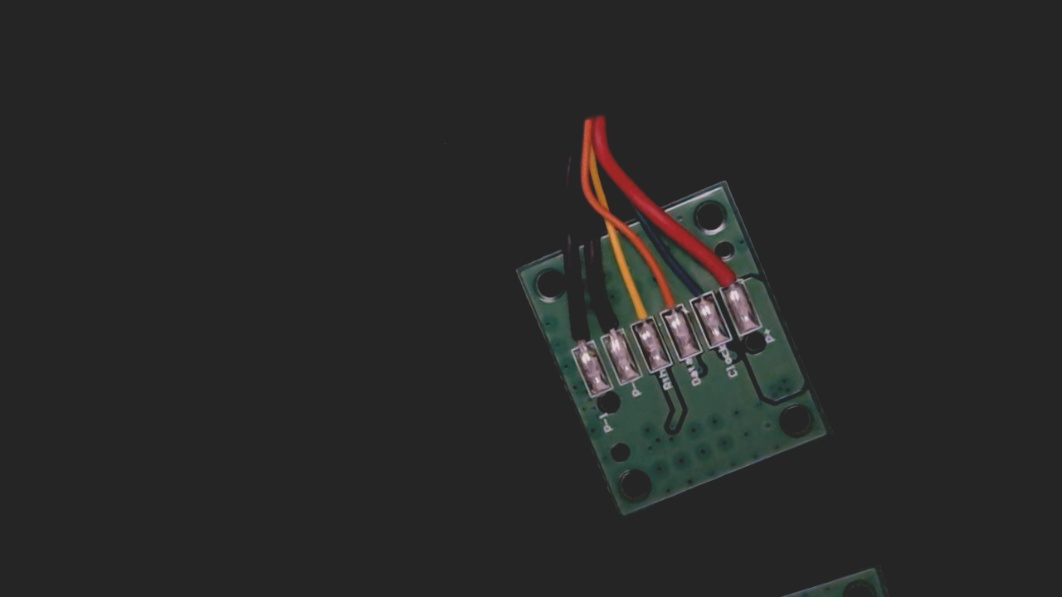Black: (582, 285, 629, 351)
Black1: (554, 300, 599, 362)
Green: (678, 261, 720, 316)
Orange: (644, 263, 689, 328)
Red: (706, 249, 748, 304)
Yellow: (612, 273, 660, 341)
